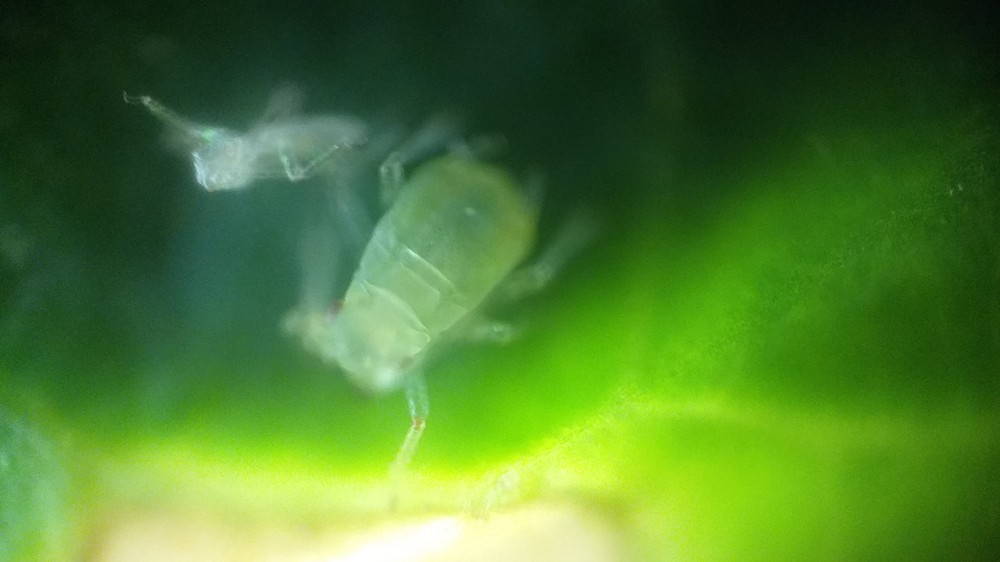Pulgon: (289, 105, 615, 465)
